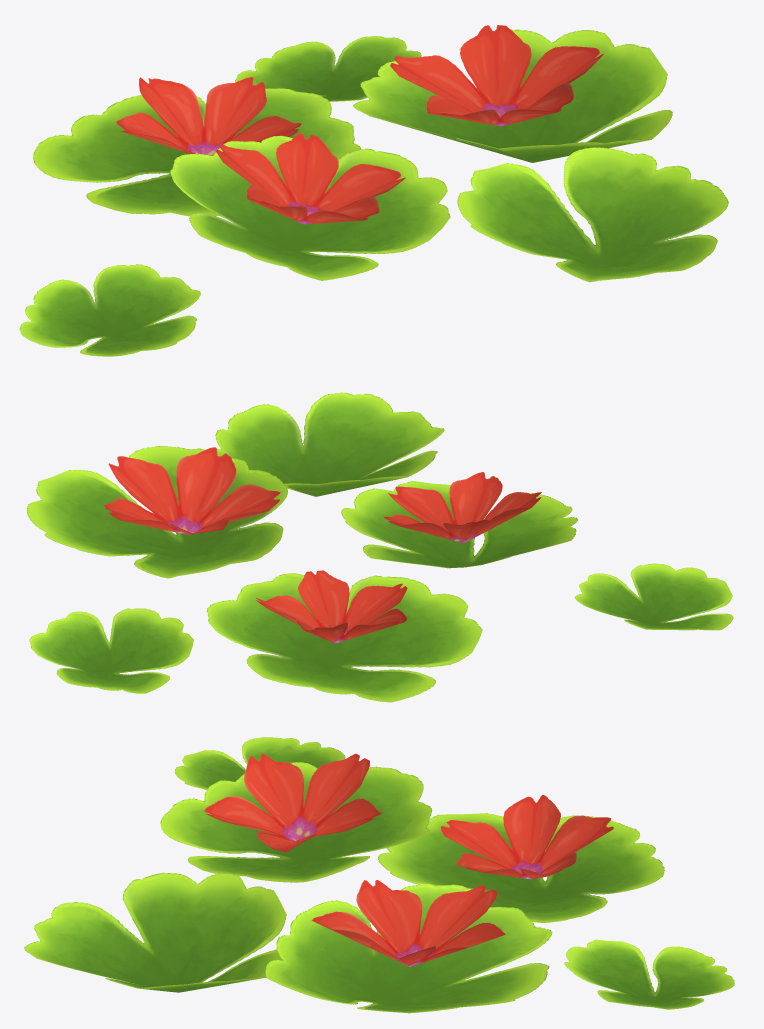
Rendered from nature_flower_6.glb.
The picture shows the model from 3 angles, top to bottom: view 1: azimuth 30°, elevation 25°; view 2: azimuth 150°, elevation 25°; view 3: azimuth 270°, elevation 25°; orthographic projection. The views are drawn at different scales.
Parts seen in each view (by area): view 1: nature_flower_6; view 2: nature_flower_6; view 3: nature_flower_6.
Part boxes in pixels (x1=…): nature_flower_6: x1=19, y1=25, x2=728, y2=356; nature_flower_6: x1=26, y1=392, x2=733, y2=702; nature_flower_6: x1=24, y1=737, x2=734, y2=1013.
Bounding box in the file's own units: 96.32 × 16.14 × 89.09.
2 materials, 2 textured.
